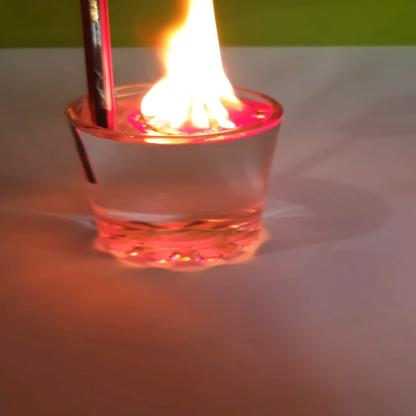Fire: (109, 0, 247, 130)
